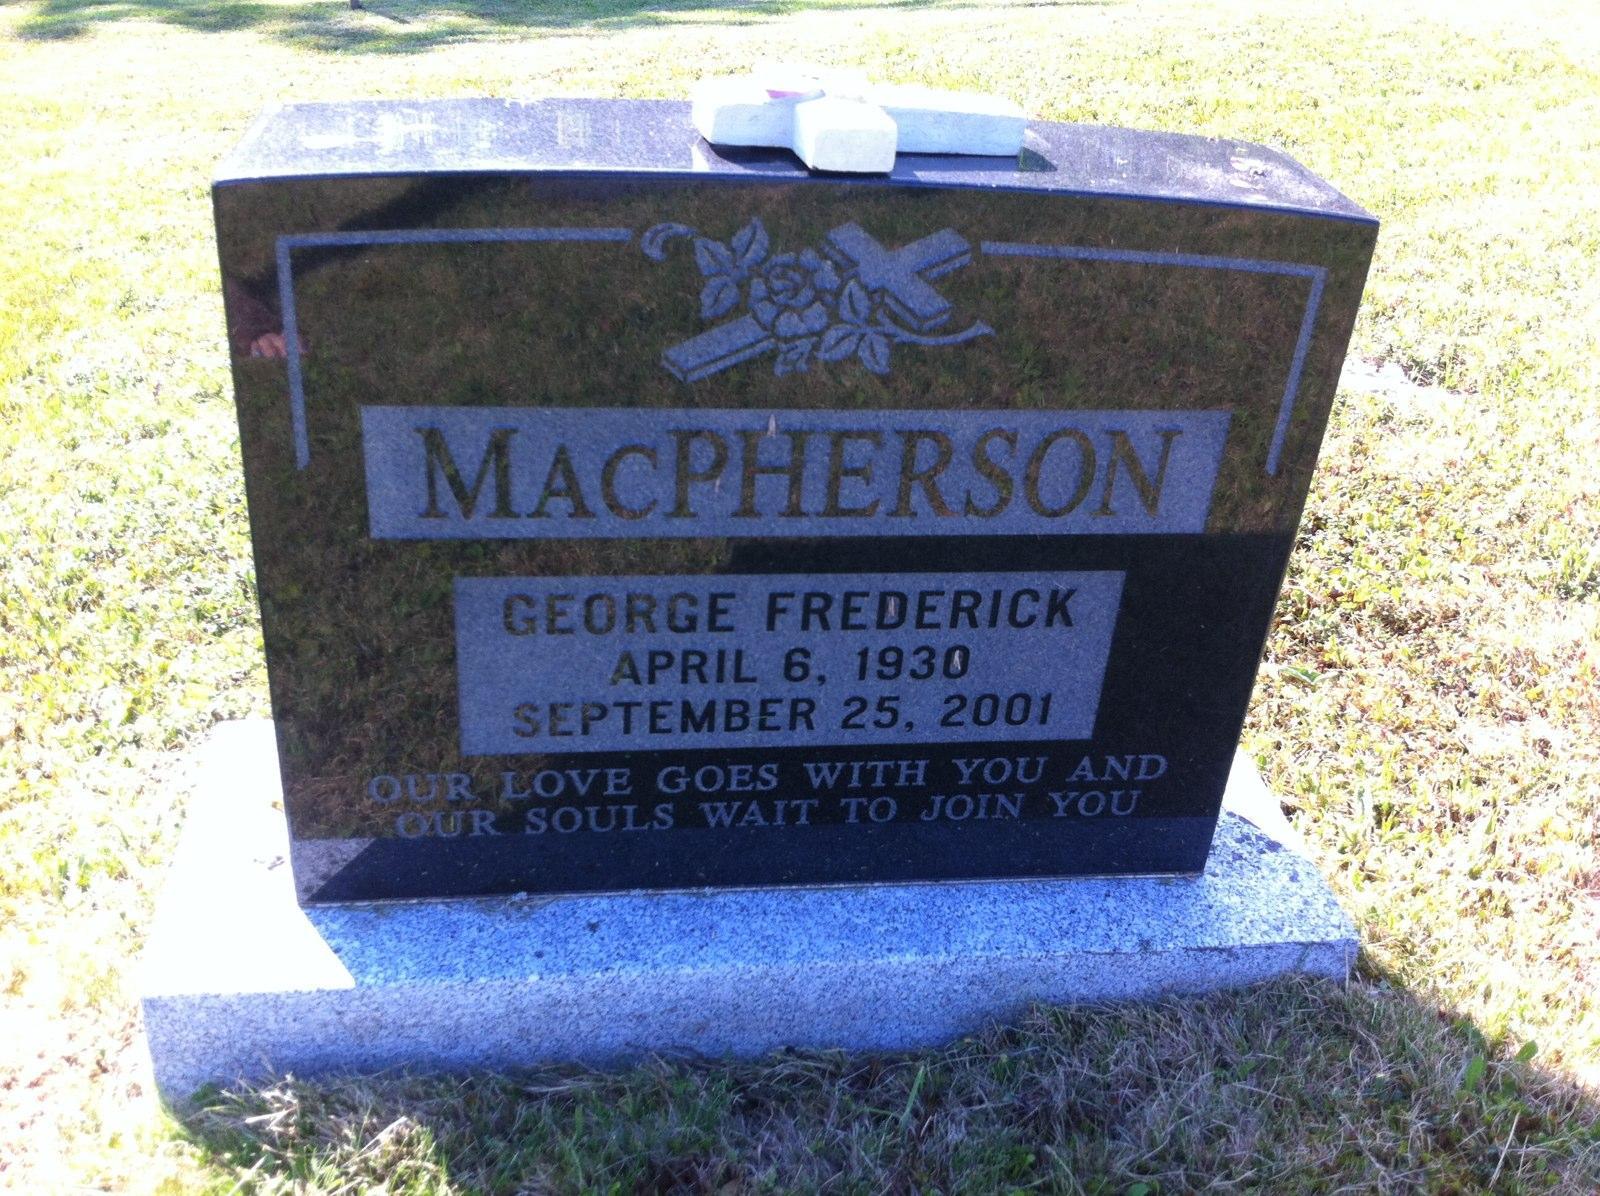upright: (137, 80, 1383, 1126)
